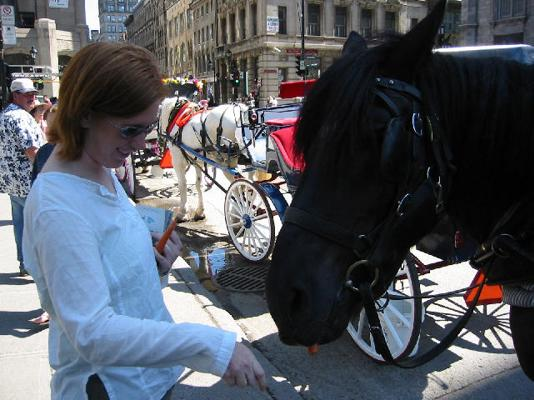person: (22, 38, 268, 400)
